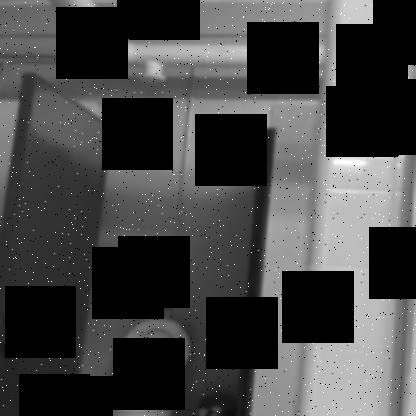Porte: (0, 72, 278, 415)
